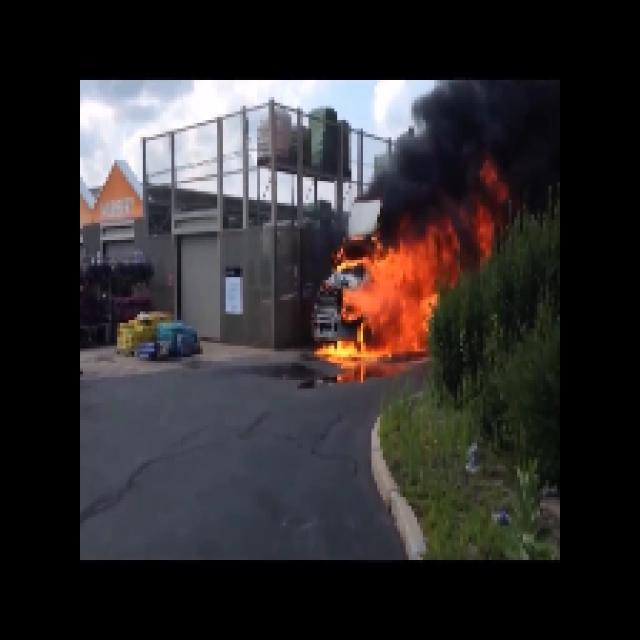Fire: (352, 243, 444, 357)
Smoke: (404, 80, 560, 220)
